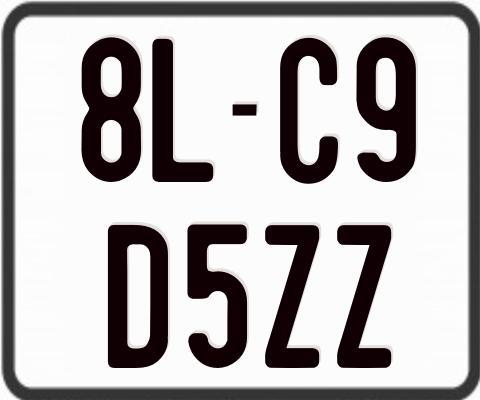5: (185, 222, 251, 367)
8: (79, 35, 142, 181)
9: (353, 37, 416, 185)
C: (280, 36, 338, 187)
D: (106, 225, 169, 372)
L: (151, 37, 217, 181)
Z: (264, 223, 320, 370), (336, 223, 392, 367)
